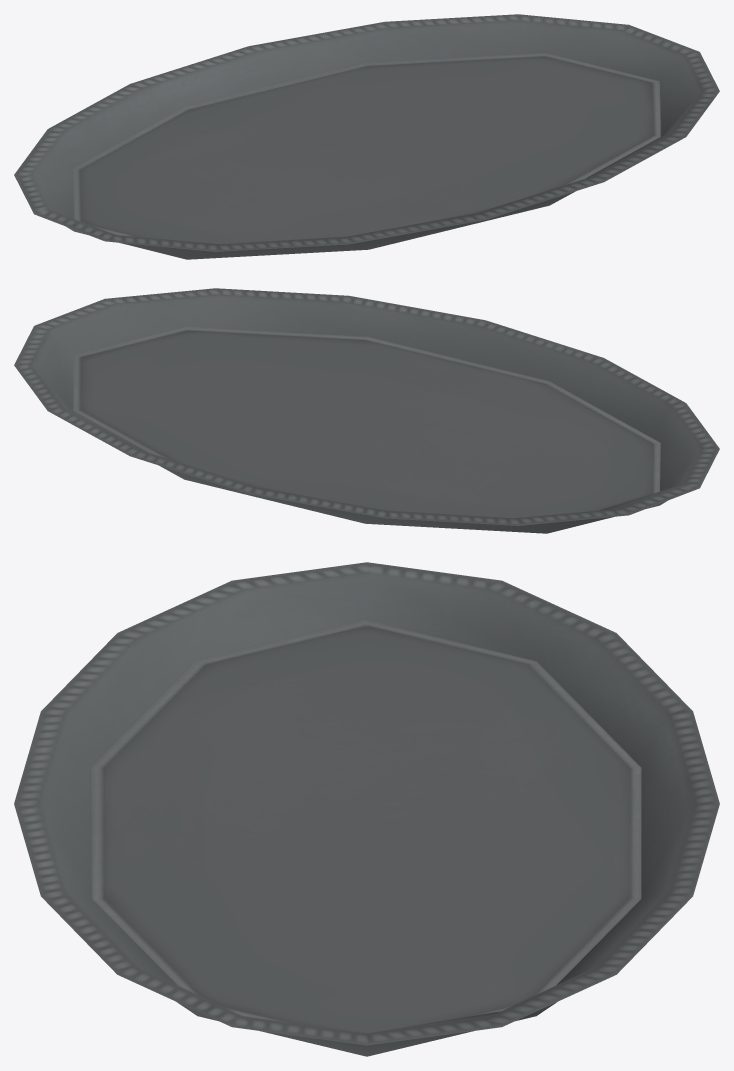
Rendered from SilverTrayRd.fbx.
3 renders of one model, top to bottom at view 1: azimuth 30°, elevation 25°; view 2: azimuth 150°, elevation 25°; view 3: azimuth 270°, elevation 25°, orthographic. The views are drawn at different scales.
Visible parts, largest first — view 1: Empty_Mesh; view 2: Empty_Mesh; view 3: Empty_Mesh.
Boxes of the visible parts, x1,y1,x2,y2 form: Empty_Mesh: (14, 14, 719, 259); Empty_Mesh: (14, 288, 719, 533); Empty_Mesh: (14, 562, 719, 1056).
Size of the model in its own units: 0.9639 by 0.0375 by 0.595.
